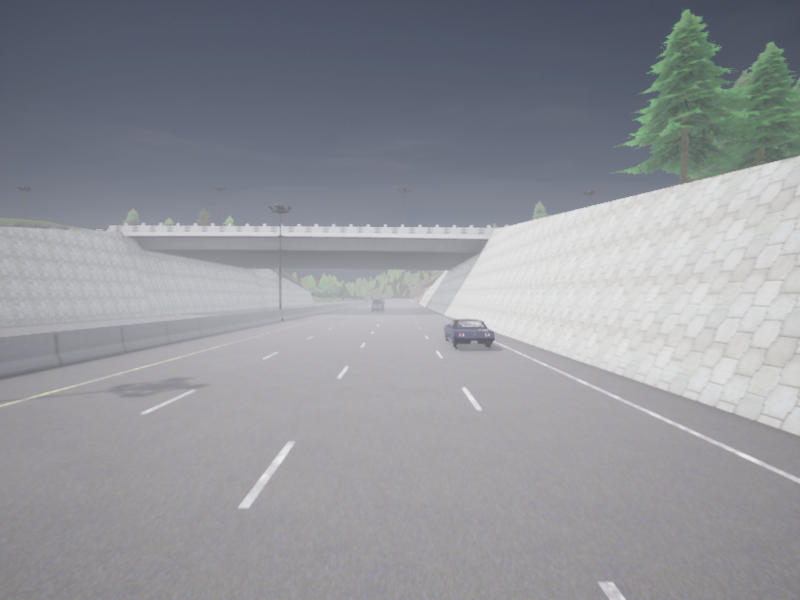vehicle: (444, 319, 494, 346), (372, 297, 384, 310)
